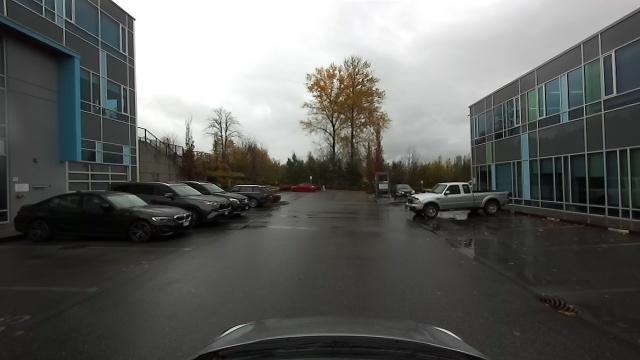car: (10, 188, 193, 238), (408, 180, 512, 219), (104, 180, 195, 200), (189, 196, 229, 227), (236, 182, 271, 210), (391, 182, 415, 195)
